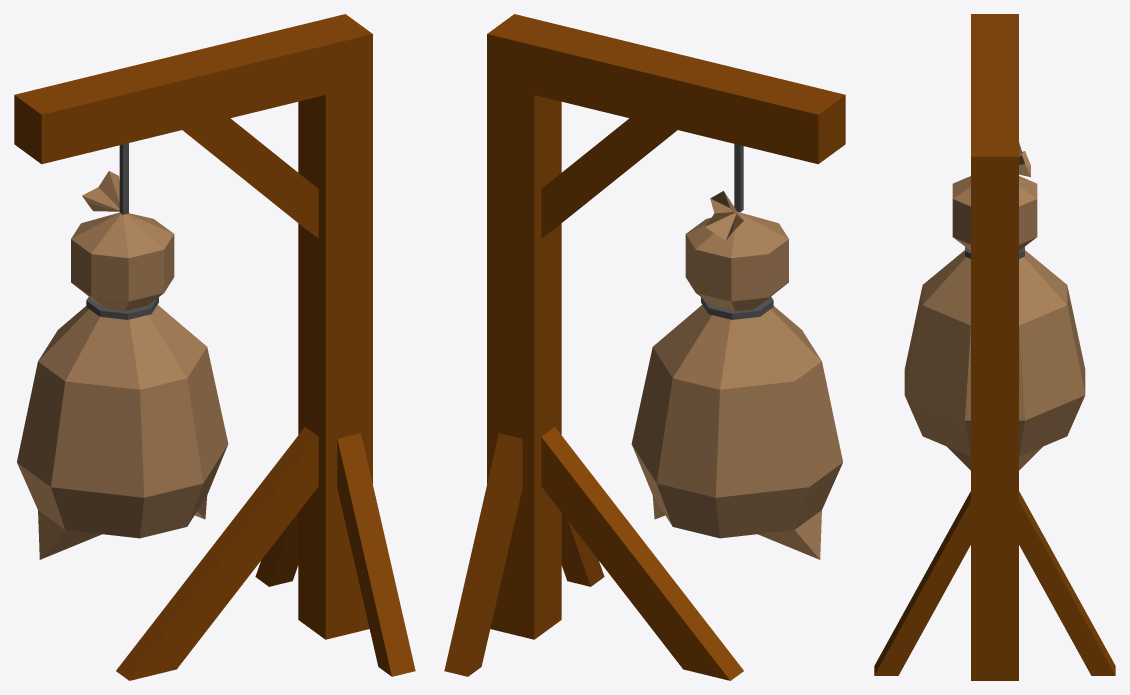
File: sworddummy.obj
The picture shows the model from 3 angles, left to right: view 1: azimuth 30°, elevation 25°; view 2: azimuth 150°, elevation 25°; view 3: azimuth 270°, elevation 25°; orthographic projection. The views are drawn at different scales.
Parts seen in each view (by area): view 1: sworddummy_back; view 2: sworddummy_back; view 3: sworddummy_back.
Boxes of the visible parts, x1,y1,x2,y2 form: sworddummy_back: [14, 14, 415, 680]; sworddummy_back: [444, 14, 845, 680]; sworddummy_back: [874, 14, 1115, 680].
Size of the model in its own units: 1.12 by 1.92 by 0.8.
